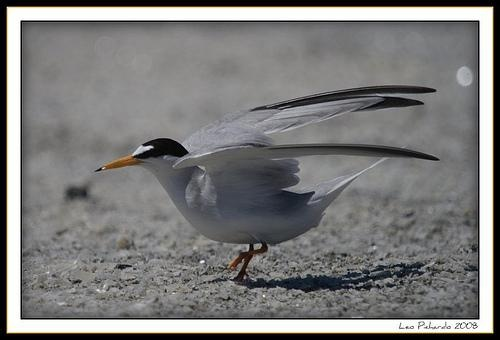bird: (93, 83, 441, 276)
